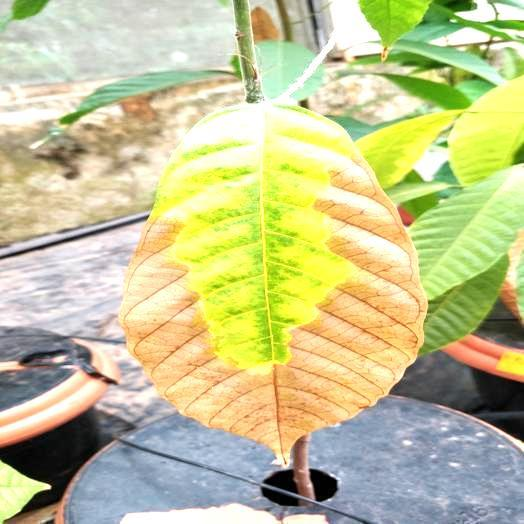Potassium: (120, 100, 426, 462)
